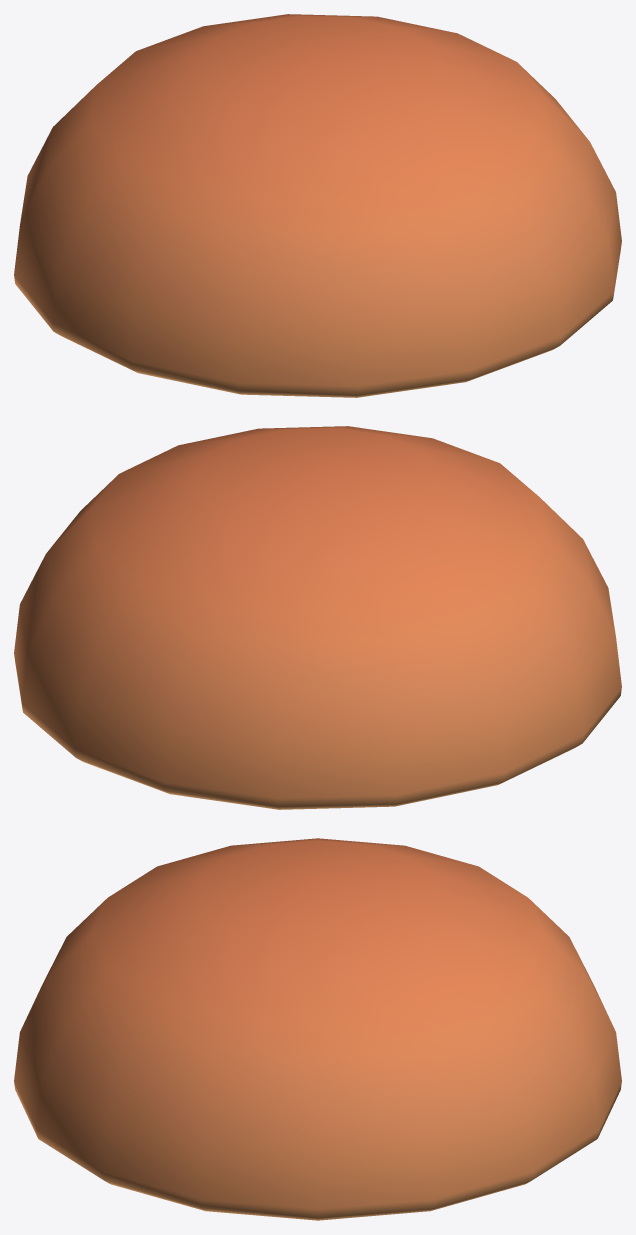
File: Bread_Burger_Upper_V1_00.fbx
3 renders of one model, top to bottom at view 1: azimuth 30°, elevation 25°; view 2: azimuth 150°, elevation 25°; view 3: azimuth 270°, elevation 25°, orthographic.
Visible parts, largest first — view 1: Bread_Burger_Upper_V1_00; view 2: Bread_Burger_Upper_V1_00; view 3: Bread_Burger_Upper_V1_00.
Boxes of the visible parts, x1,y1,x2,y2 form: Bread_Burger_Upper_V1_00: (14,14,621,397); Bread_Burger_Upper_V1_00: (14,426,621,809); Bread_Burger_Upper_V1_00: (14,838,621,1220).
Bounding box in the file's own units: 45.59 × 18.27 × 45.59.
